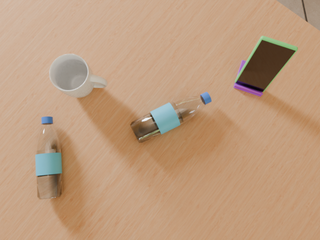bottle: (130, 92, 211, 144), (36, 117, 63, 199)
cup: (49, 54, 107, 98)
phone: (235, 36, 298, 92)
